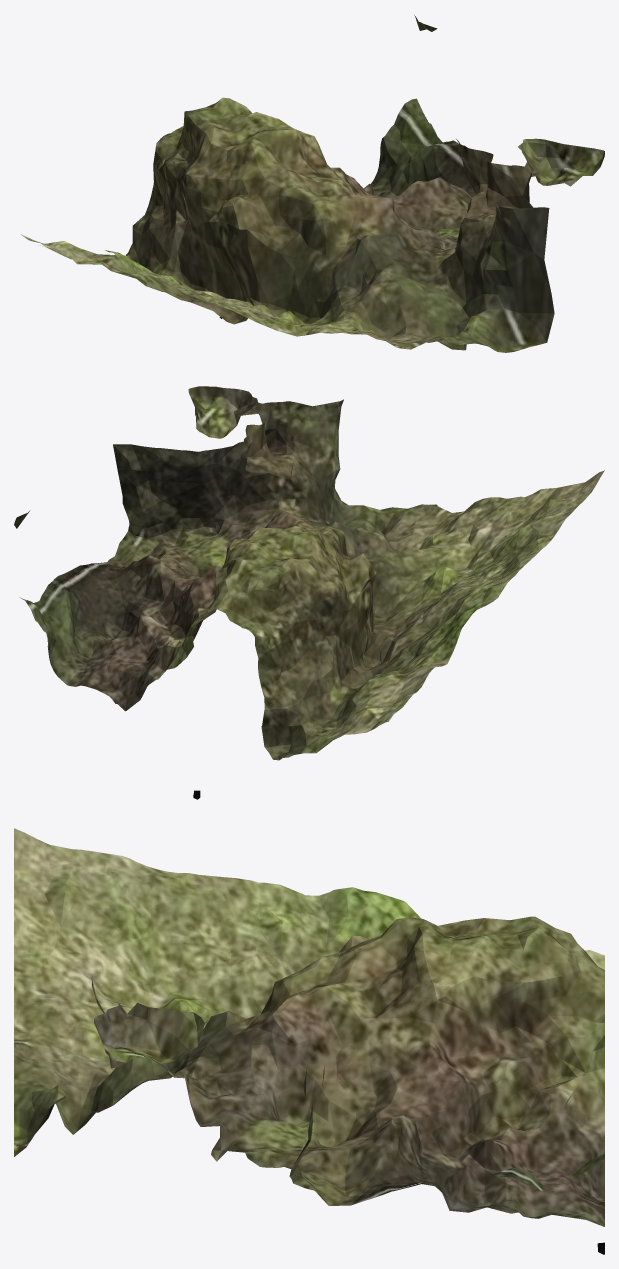
3 renders of one model, top to bottom at view 1: azimuth 30°, elevation 25°; view 2: azimuth 150°, elevation 25°; view 3: azimuth 270°, elevation 25°, orthographic. The views are drawn at different scales.
Bounding box in the file's own units: 5.9 × 3.58 × 5.9.
4 materials, 4 textured.
